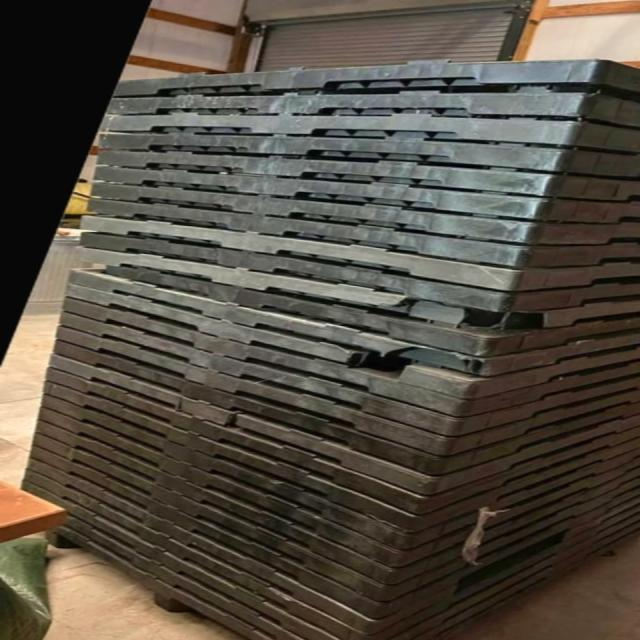non-igps: (24, 442, 640, 640), (27, 427, 640, 611), (25, 413, 640, 592), (28, 403, 640, 575), (34, 387, 640, 559), (30, 376, 640, 540), (45, 343, 640, 508), (35, 361, 640, 523), (49, 333, 640, 486), (48, 317, 640, 466), (60, 259, 640, 410), (55, 306, 640, 444), (56, 290, 640, 428), (57, 275, 640, 409), (94, 251, 640, 365), (68, 238, 640, 345), (14, 471, 360, 640), (74, 221, 640, 320), (12, 476, 348, 640), (71, 204, 640, 300), (80, 193, 640, 280), (82, 179, 640, 260), (85, 155, 640, 232), (92, 142, 640, 210), (92, 126, 640, 192), (53, 504, 314, 640), (99, 49, 640, 109), (96, 81, 640, 140), (99, 107, 640, 164), (40, 516, 287, 640)
